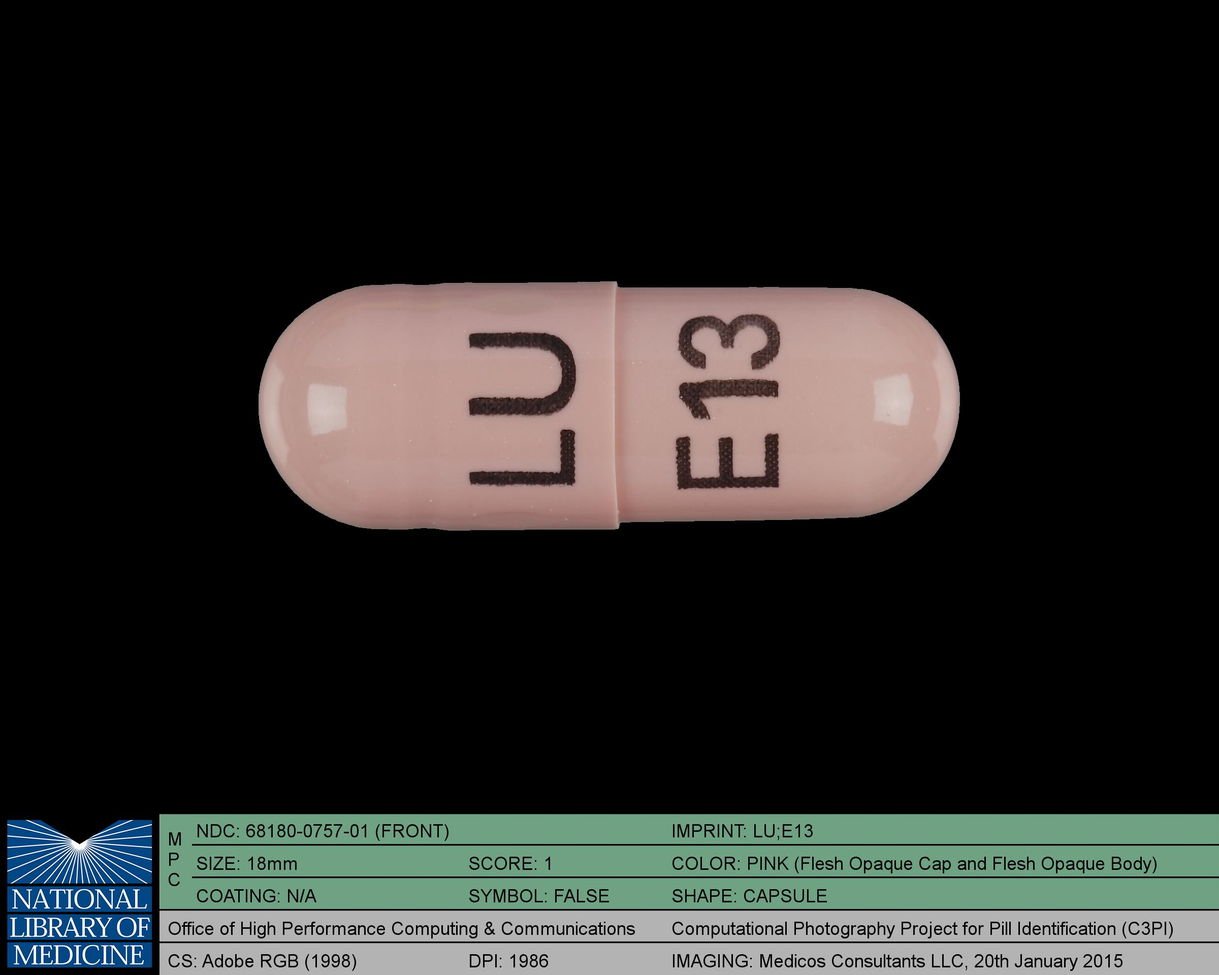Pill: (240, 257, 979, 547)
